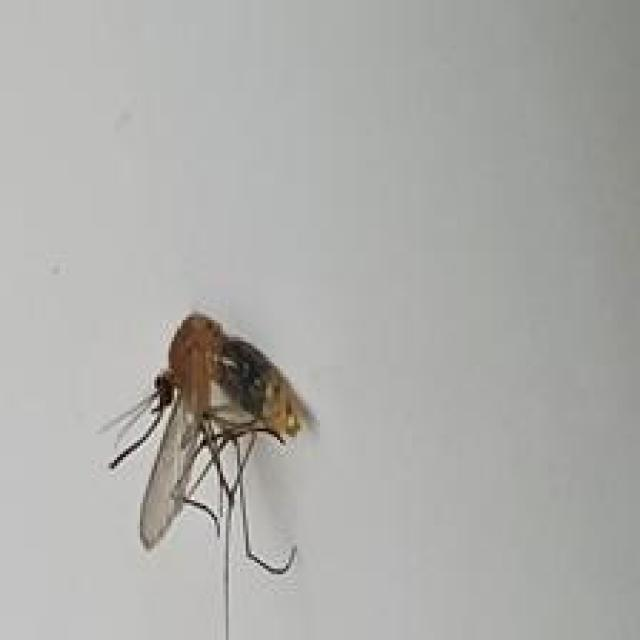Culex: (97, 308, 320, 640)
